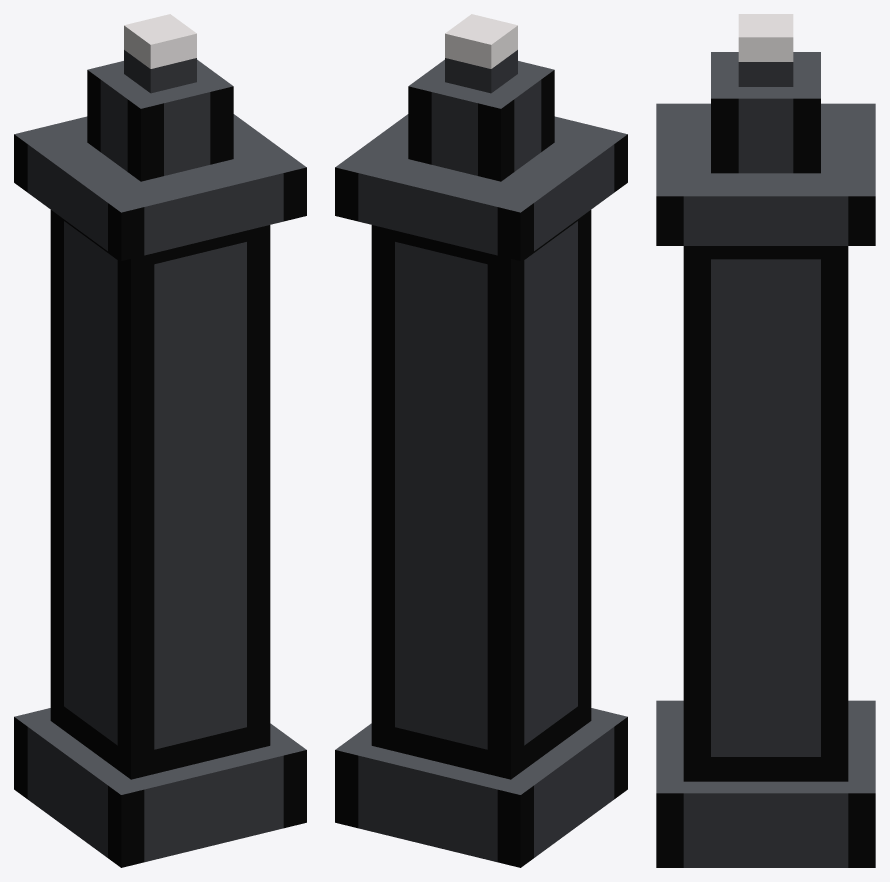
File: fence_post.obj
3 views of the same model, side by side, from view 1: azimuth 30°, elevation 25°; view 2: azimuth 150°, elevation 25°; view 3: azimuth 270°, elevation 25° (orthographic). The views are drawn at different scales.
Visible parts, largest first — view 1: fence_post; view 2: fence_post; view 3: fence_post.
Boxes of the visible parts, <box> form: fence_post: <box>14,14,306,867</box>; fence_post: <box>335,14,627,867</box>; fence_post: <box>656,14,875,867</box>.
Bounding box in the file's own units: 8 × 32 × 8.
Materials: 1 (1 with a texture image).
